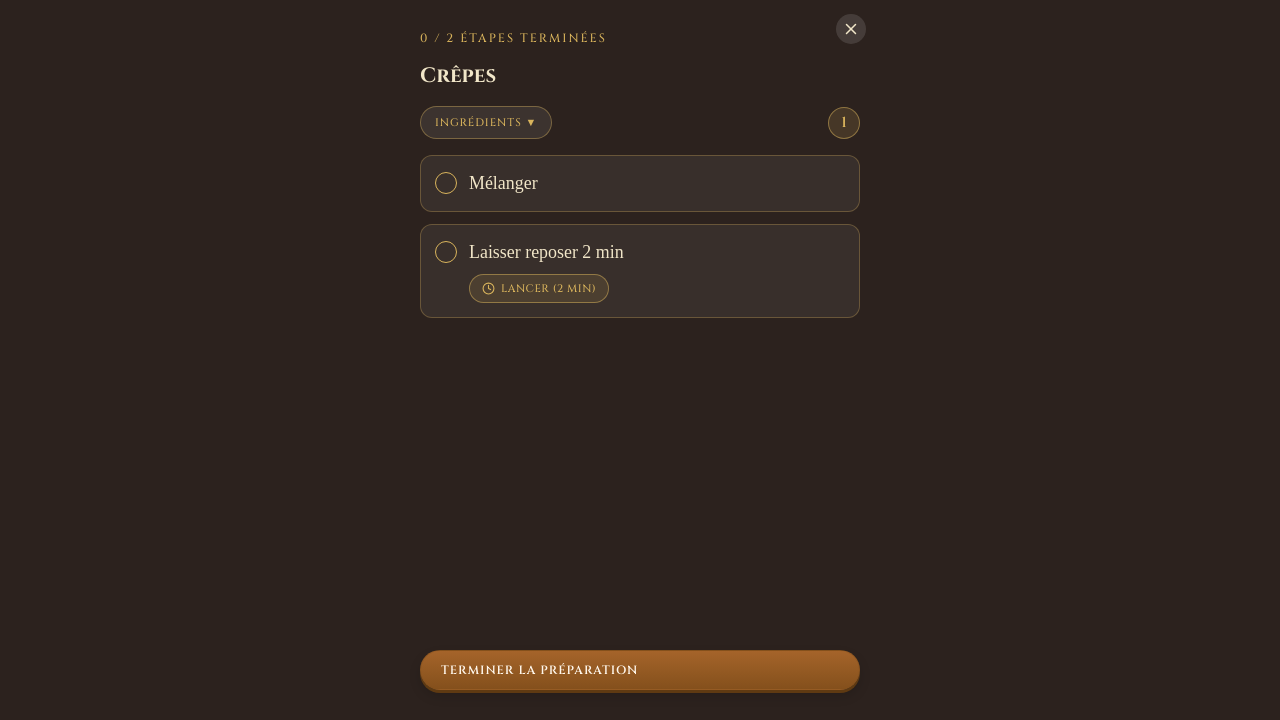
CookMode — parts › ne descend pas sous une part
The image size is (1280, 720).
Click the button "1".
click(844, 122)  # box [829,108,859,138]
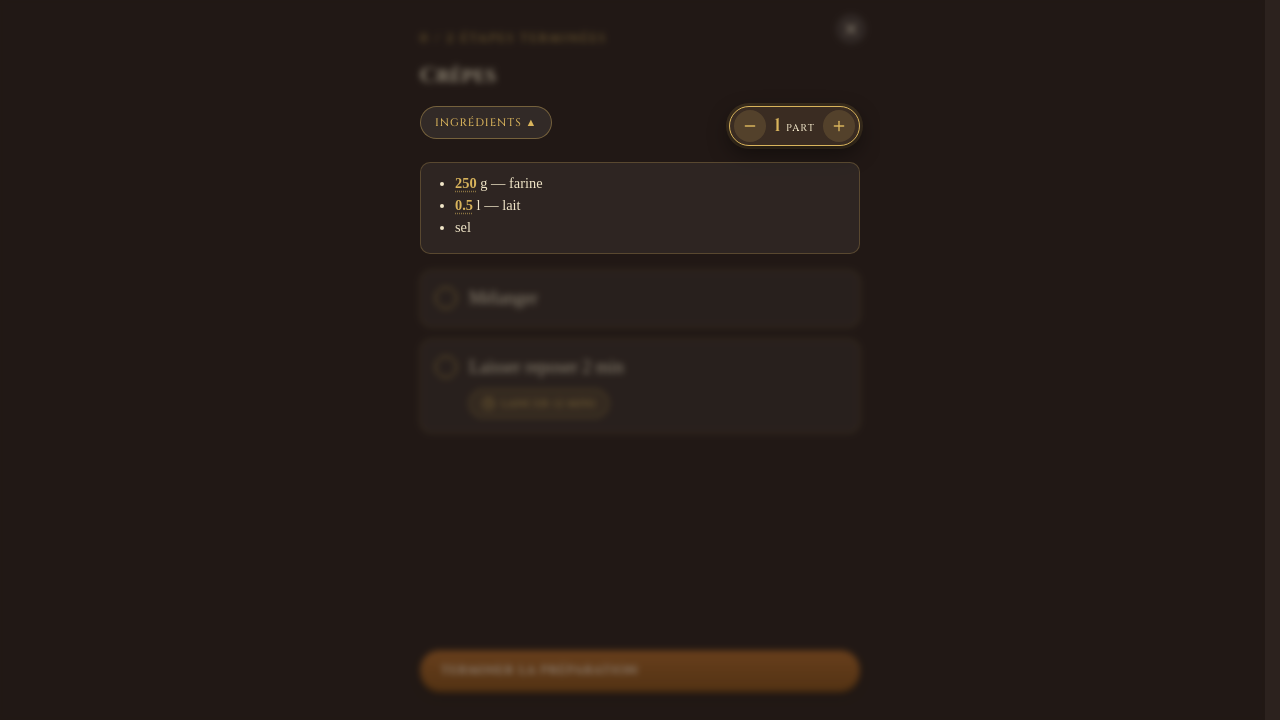
Check: the button named "Une part de moins" is disabled, box [734,110,766,142]
